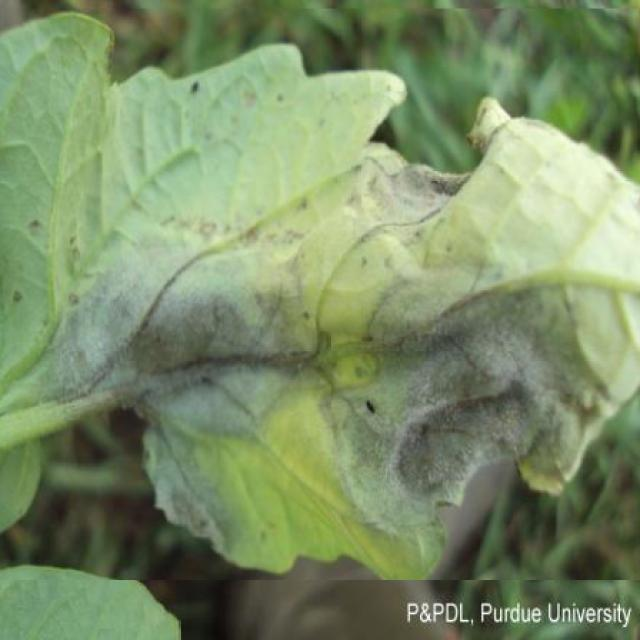Late Blight: (0, 9, 640, 581)
